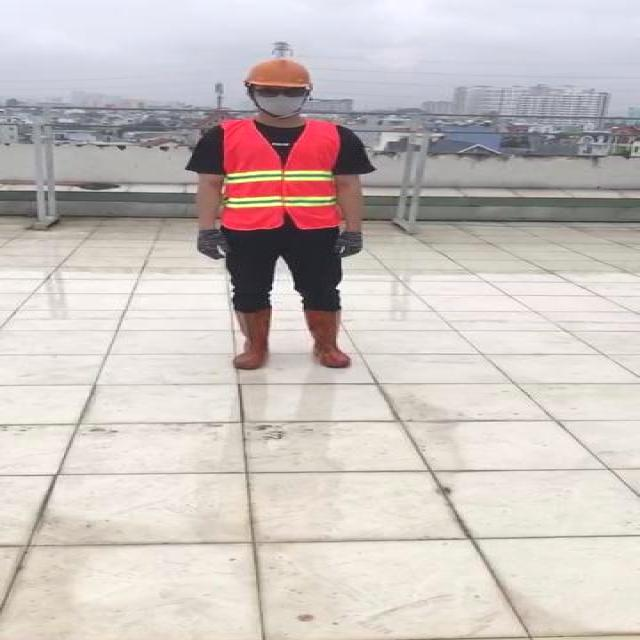boots: (306, 307, 350, 369), (231, 308, 274, 370)
face_mask: (250, 83, 312, 118)
glasses: (253, 84, 311, 100)
hand_glove: (329, 228, 364, 259), (198, 228, 230, 260)
head_helmet: (246, 59, 316, 88)
person: (185, 57, 380, 367)
vest: (218, 118, 339, 230)
